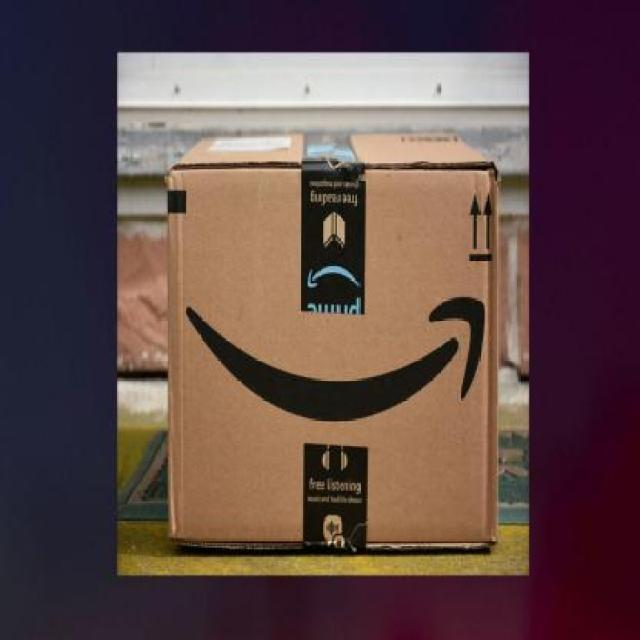obstacle: (165, 129, 500, 554)
